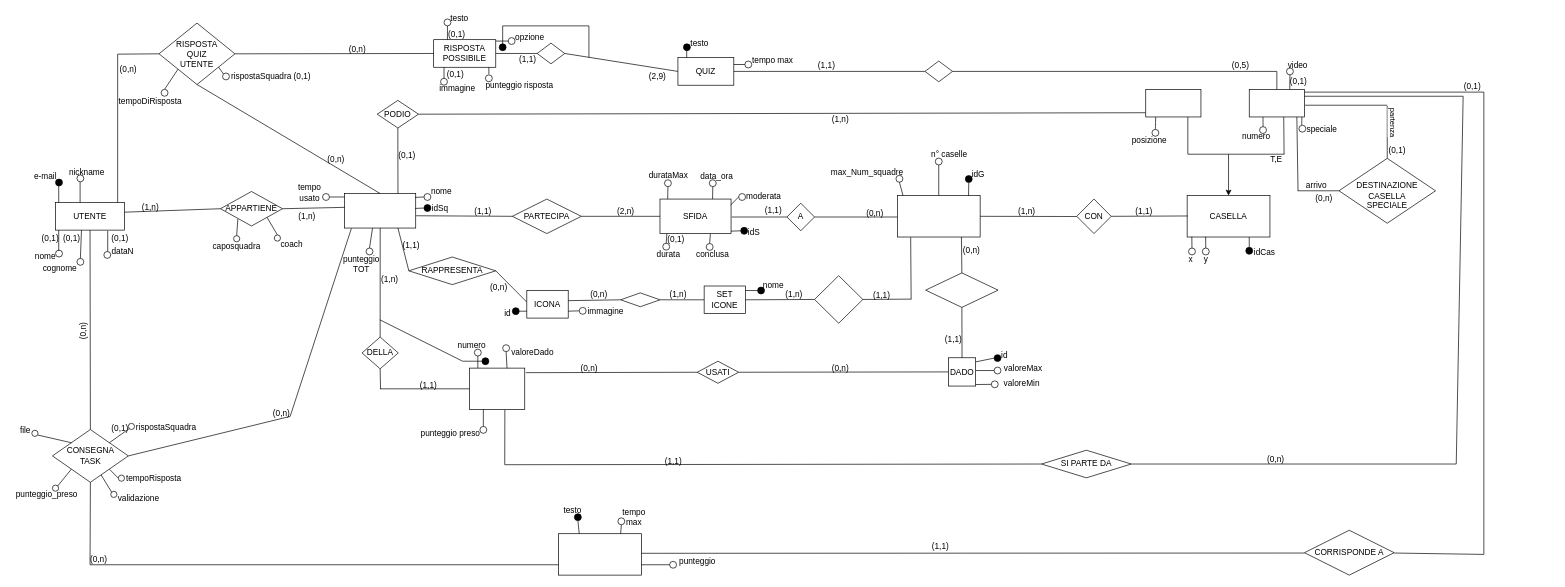
This 1565x587 diagram has some shape labels left out. Each missing label, with the centre of its shape:
"AL" goes at (x=550, y=53).
"CASELLA PERCORSO" goes at (x=1276, y=103).
"CASELLA PODIO" goes at (x=1173, y=103).
"CONTIENE" goes at (x=640, y=299).
"GIOCO" goes at (x=938, y=216).
"IN" goes at (x=938, y=71).
"SQUADRA" goes at (x=380, y=210).
"TASK" goes at (x=599, y=554).
"TURNO" goes at (x=497, y=388).
"USATE IN" goes at (x=838, y=299).
"UTILIZZABILI" goes at (x=961, y=289).
